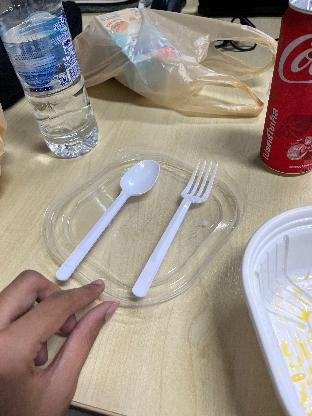Others: (57, 154, 165, 286), (128, 158, 220, 302)
Plastic Bottle: (0, 0, 100, 158)
